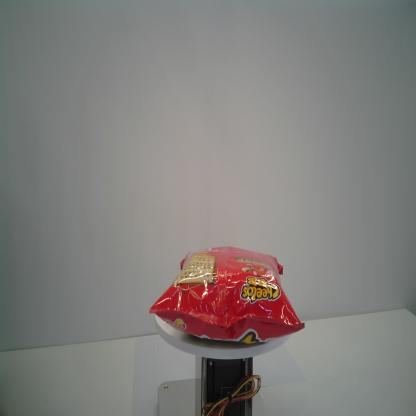Puffed Food: (145, 244, 306, 348)
